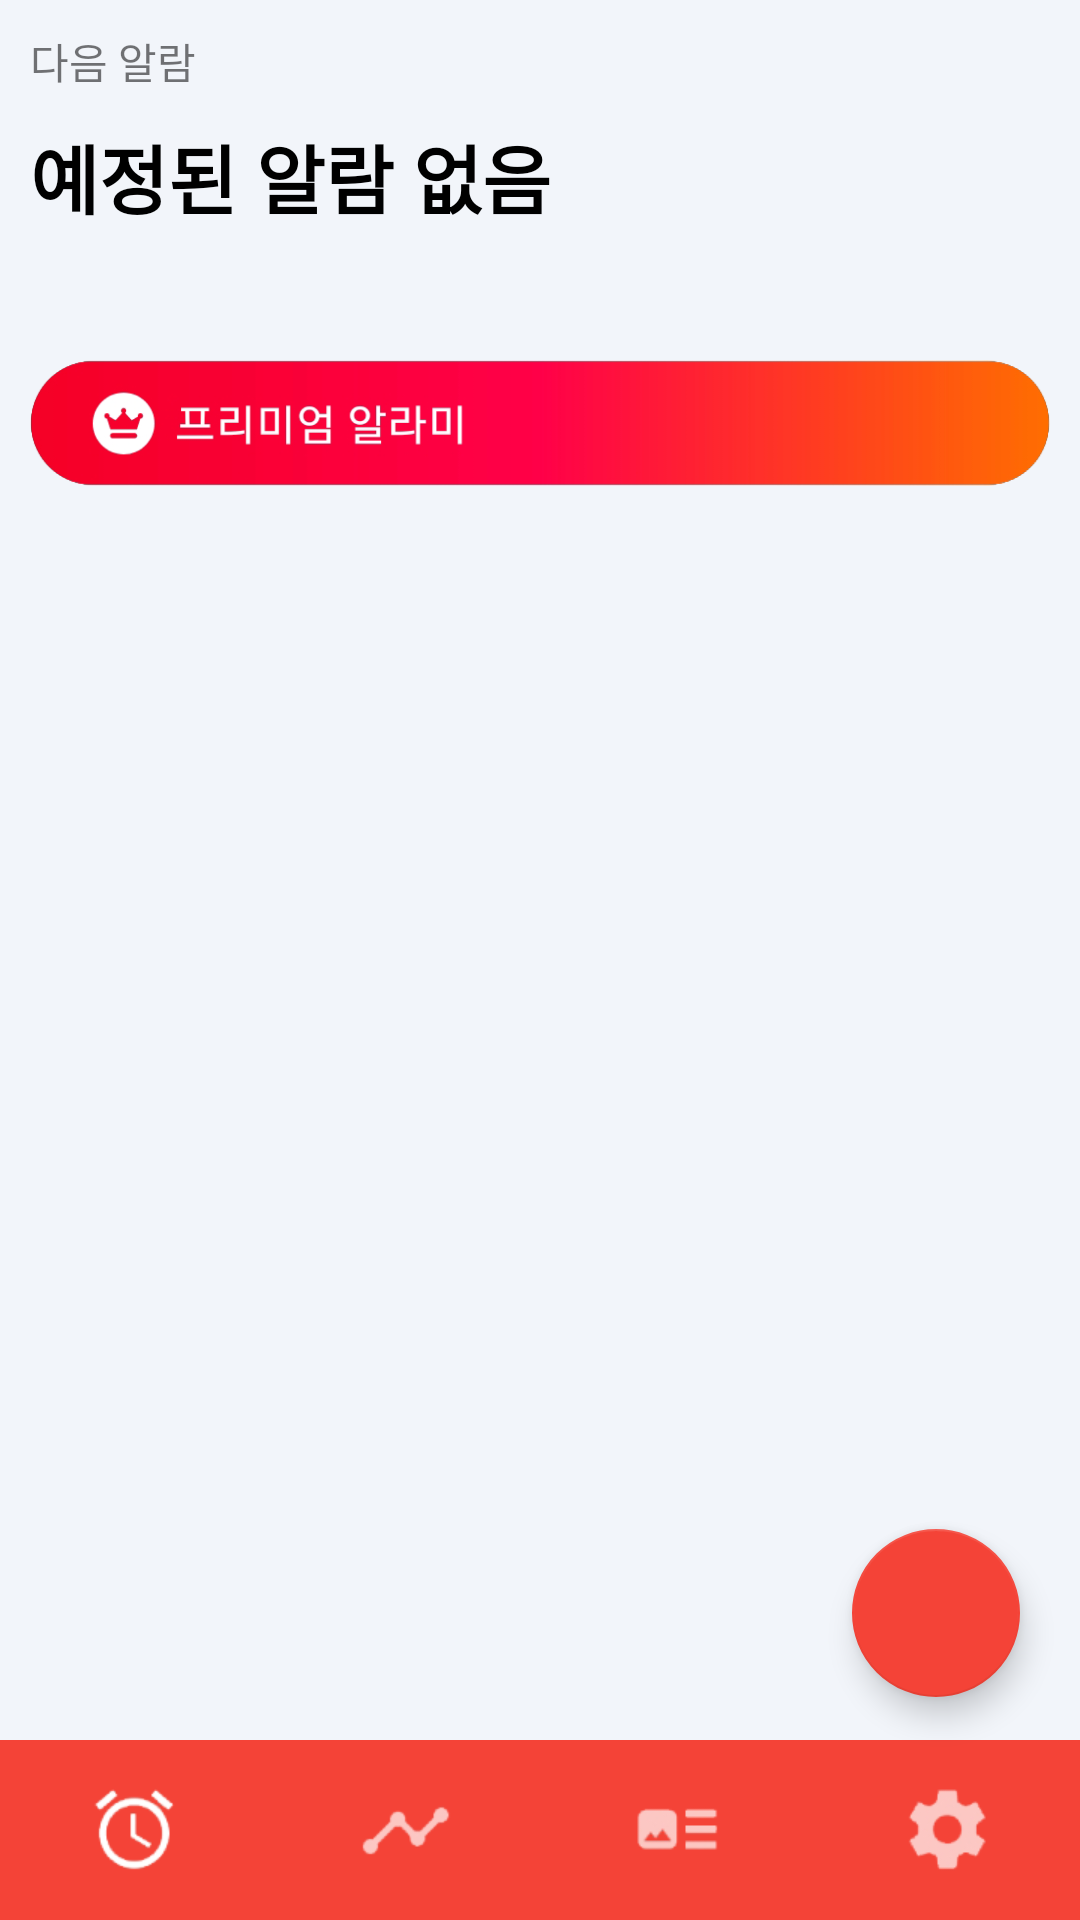

Icon click points for this 1080x1920 phone screenshot, format [x,y]:
alarm: [134,1829]
pannel: [677,1829]
record: [406,1830]
setting: [947,1829]
